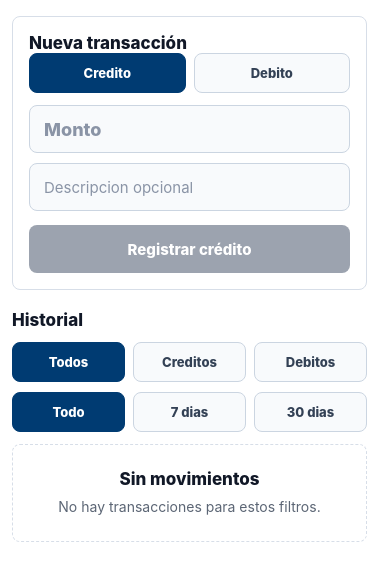
it: <TransactionsPanel /> › shows insufficient funds feedback for rejected debits
Expected: the text "Sin movimientos" is shown, [120,469,260,489]
Click the button "Debito". click: (272,73)
box: [194,53,350,93]
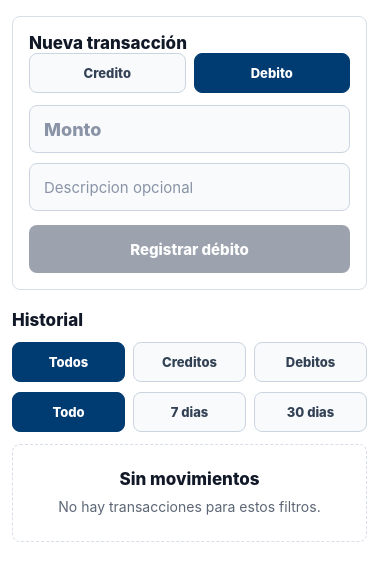
Type "200" into the field with placeholder "Monto". click: (190,129)
box: [29,105,350,153]
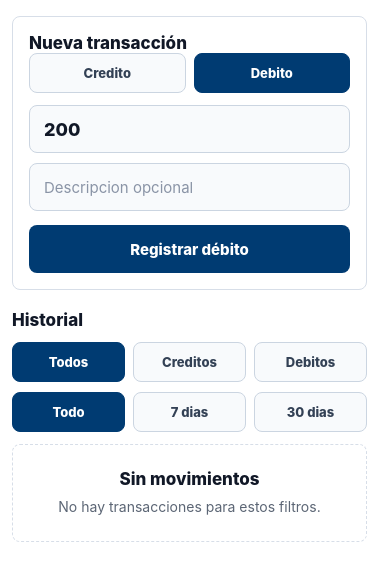
Click the button "Registrar débito". click: (190,249)
box: [29,225,350,273]
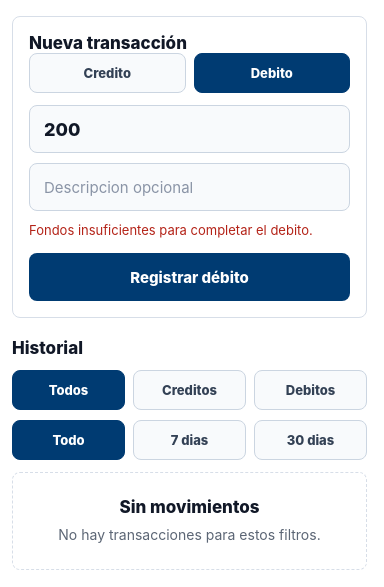
Expected: the text "Fondos insuficientes para completar el debito." is shown, [29,221,350,239]
